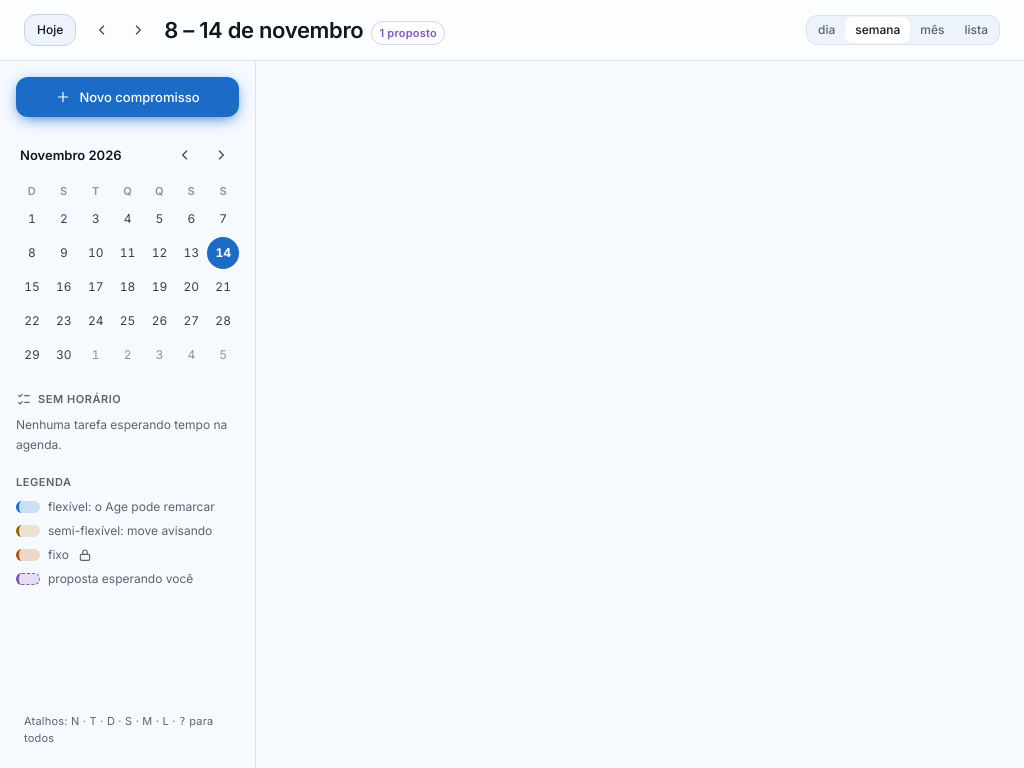
Test: o painel de propostas permite aprovar › mostra um botao de aplicar
This screenshot has width=1024, height=768.
Click the button with aria-label "Gerenciar": point(408, 30) [371, 15, 445, 45]
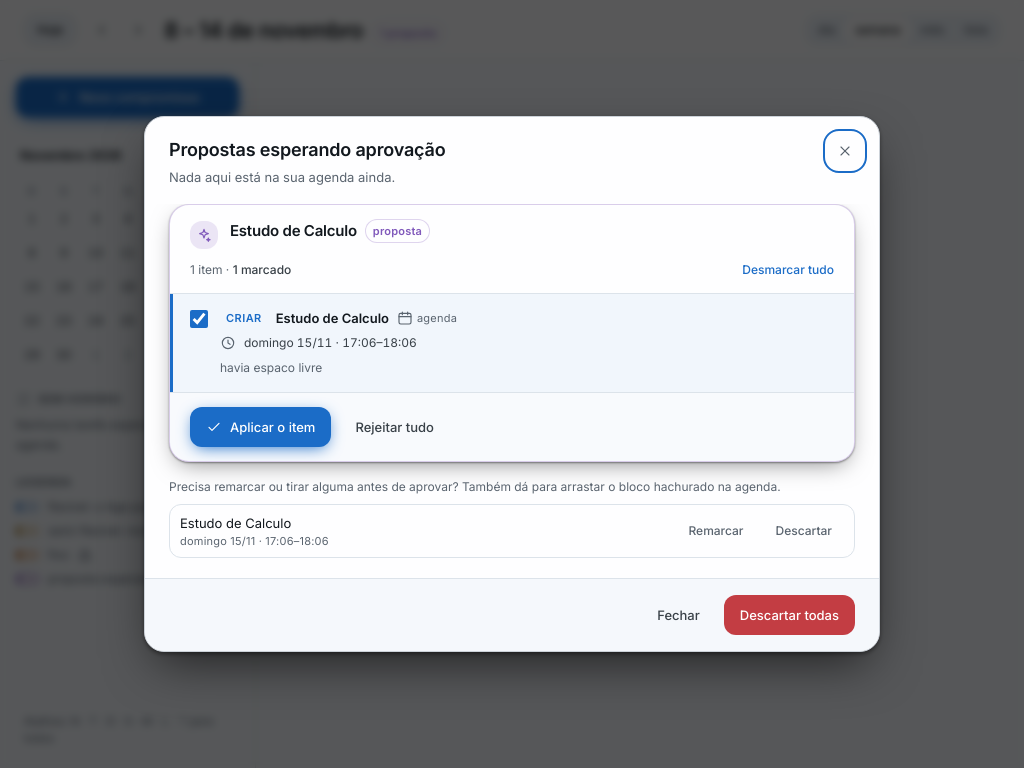
Expected: the button "Aplicar o item" is shown, [190, 407, 331, 447]
